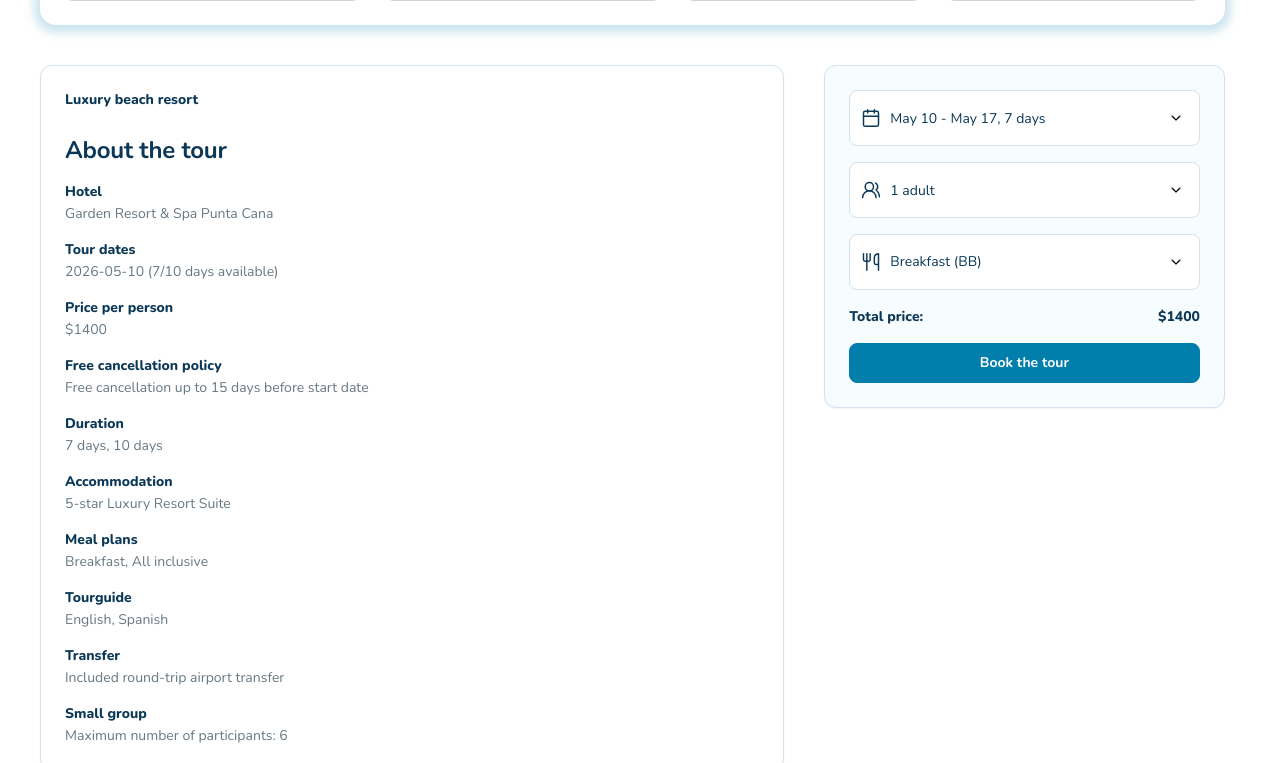
Scenario: TourDetailsPage Edge Cases & Acceptance Criteria › Edge Case 2: Guest Authentication Popup Flow › opens AuthRequiredPopup when unauthenticated user attempts to book a tour
The image size is (1280, 763).
(page scrolled)
Click the button with test id "book-tour-cta" at (1025, 363), box [849, 343, 1200, 383]
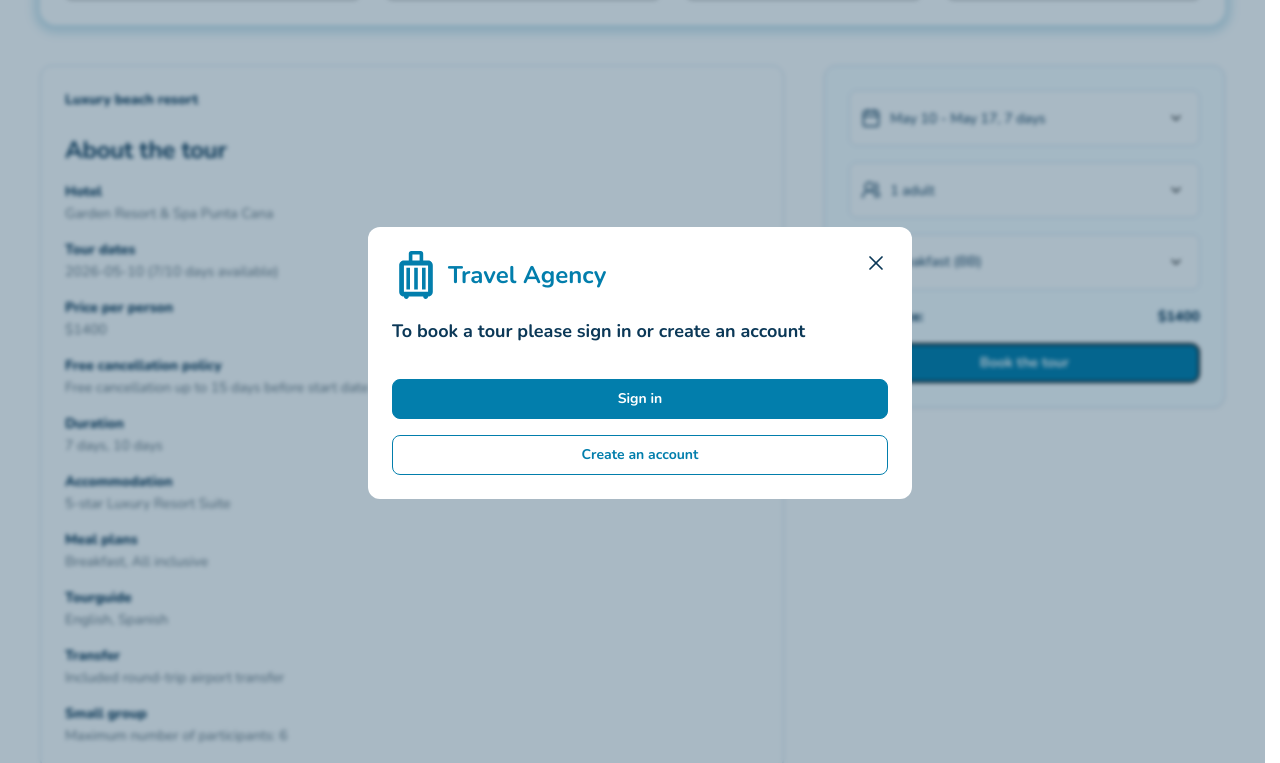
Expected: the dialog with test id "auth-required-popup" is shown, [368, 227, 912, 499]
